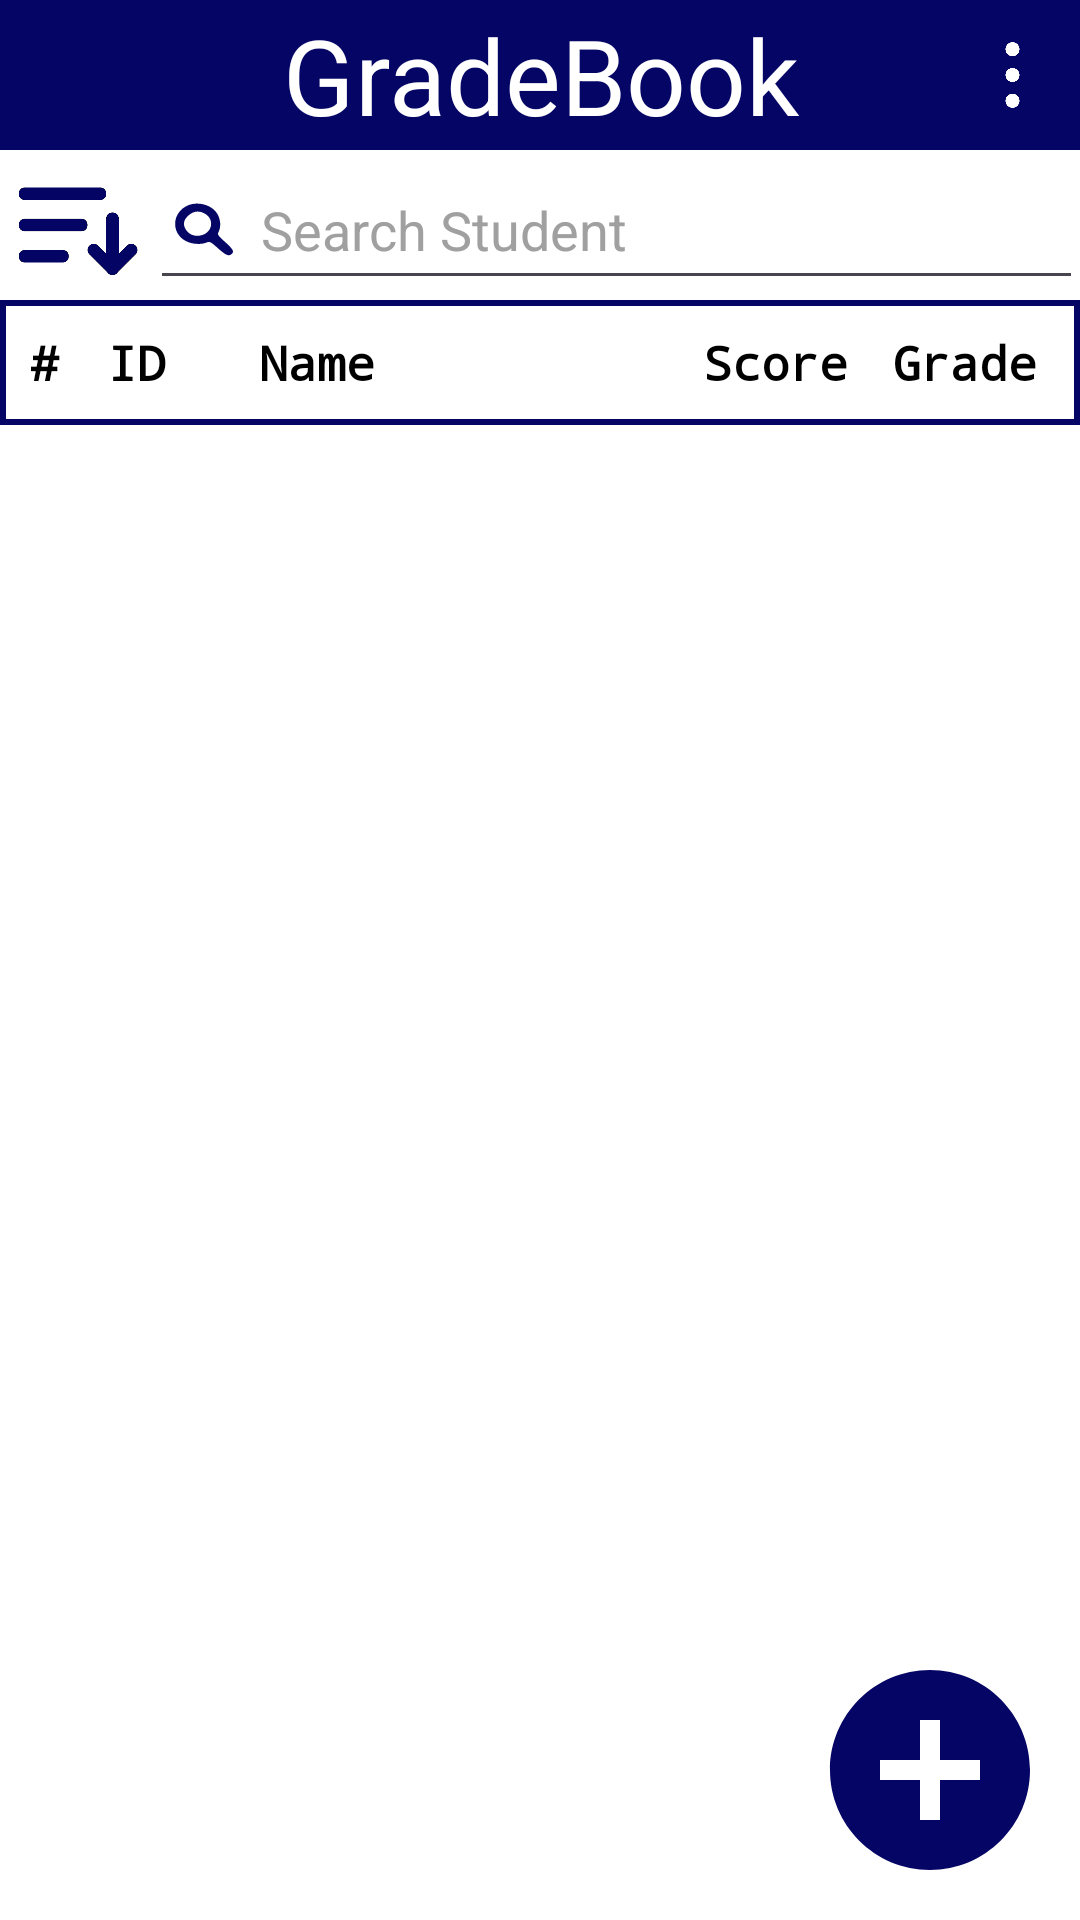

Named icons in this screenshot (1080×1920) and their centers, point (x, y):
Add Student: point (929, 1770)
Options Menu: point (1012, 75)
Sort By: point (78, 231)
